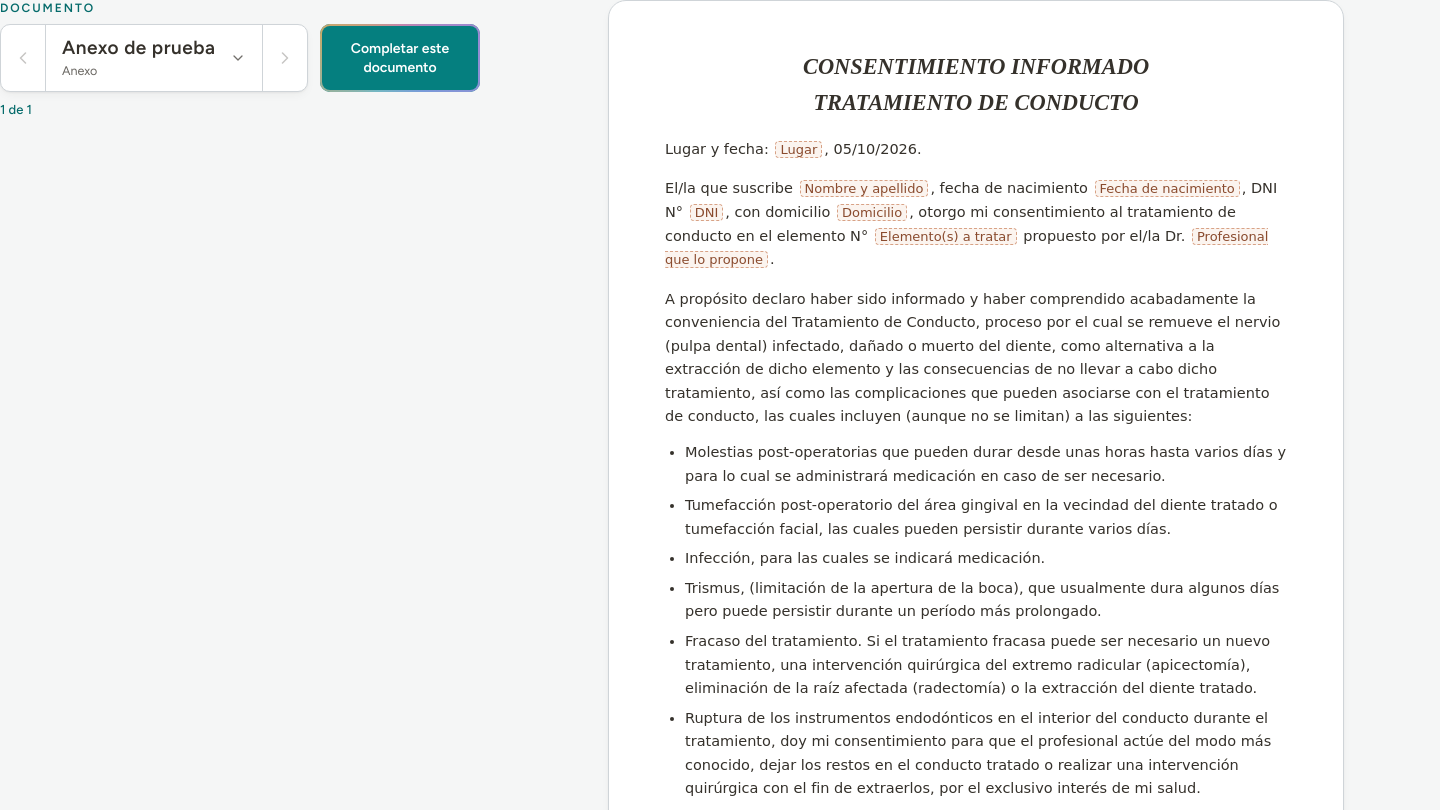
Test: ModuloDocumentos con un anexo › sin paciente, el buscador pregunta para quién y después la historia
Click the button "Completar este documento" at (400, 58), box x1=320 y1=24 x2=480 y2=92
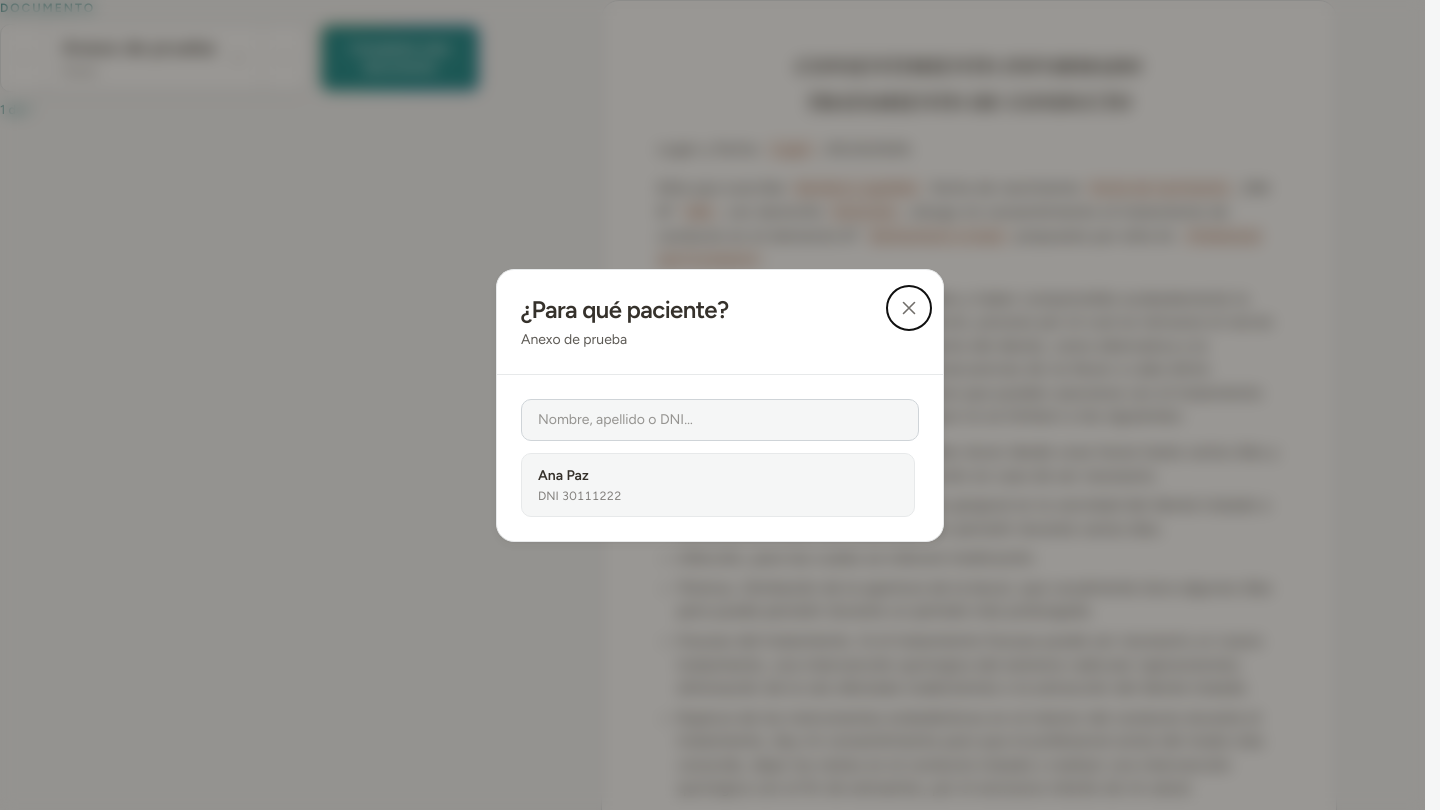
Click the button "Ana Paz DNI 30111222" at (592, 496), box x1=521 y1=452 x2=915 y2=516
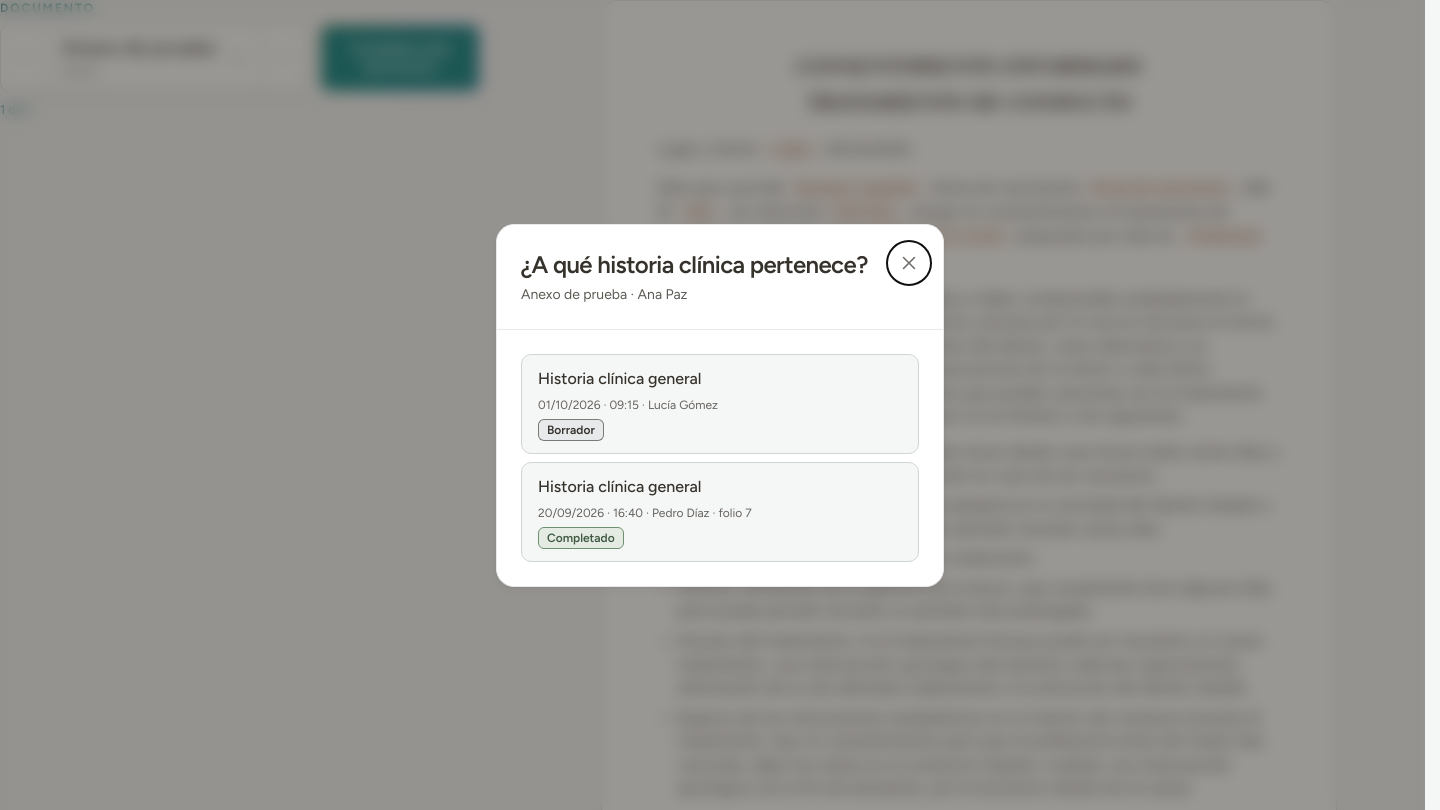
Now the dialog "¿A qué historia clínica pertenece?" is shown, box x1=496 y1=224 x2=944 y2=586
